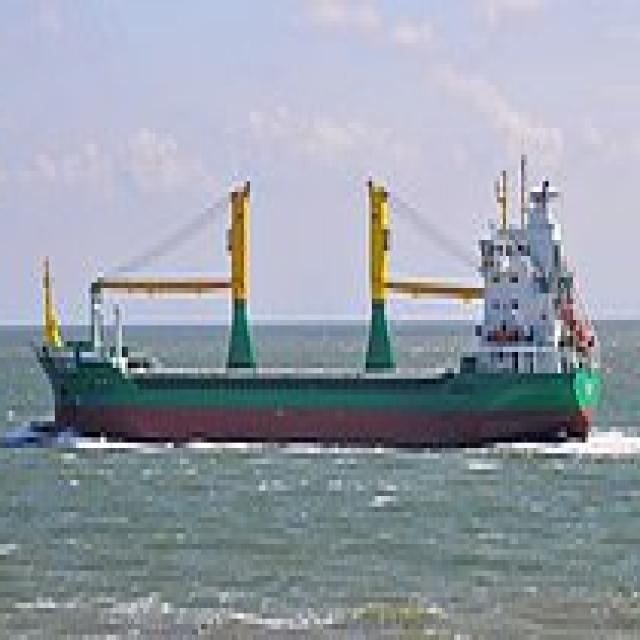Cargo: (37, 138, 612, 442)
